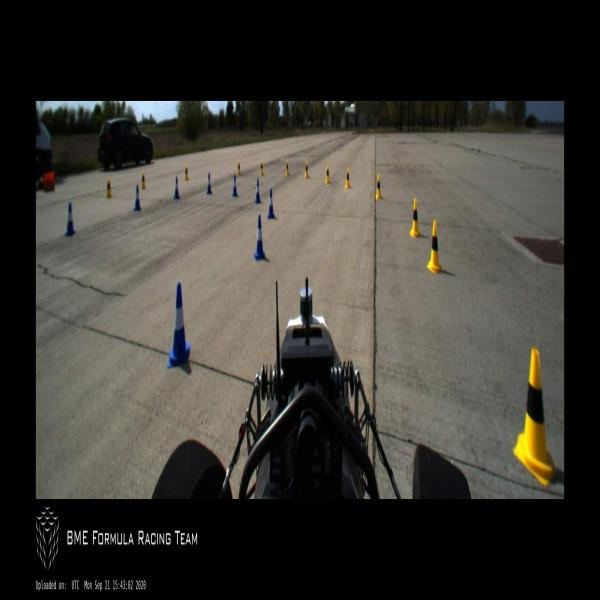blue_cone: (168, 282, 190, 367), (254, 215, 265, 260), (65, 203, 75, 236), (268, 189, 274, 218), (134, 186, 140, 212), (255, 179, 261, 203), (232, 175, 238, 196), (174, 176, 179, 199), (207, 173, 211, 194)
yellow_cone: (514, 348, 556, 487), (427, 221, 442, 274), (410, 199, 420, 237), (376, 174, 382, 200), (325, 164, 330, 184), (141, 171, 146, 190), (346, 167, 350, 189), (107, 177, 111, 197), (305, 160, 308, 178), (286, 159, 289, 176), (185, 164, 188, 180), (260, 160, 263, 175), (238, 160, 240, 176)
